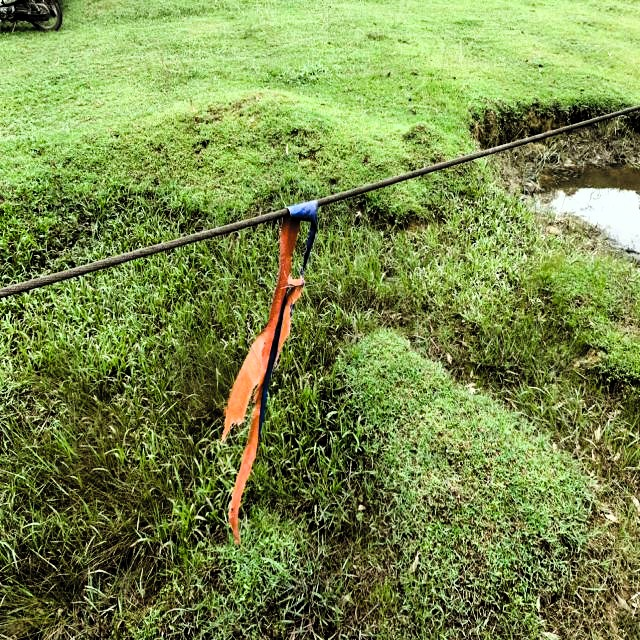wire foreign body: (214, 188, 341, 468)
